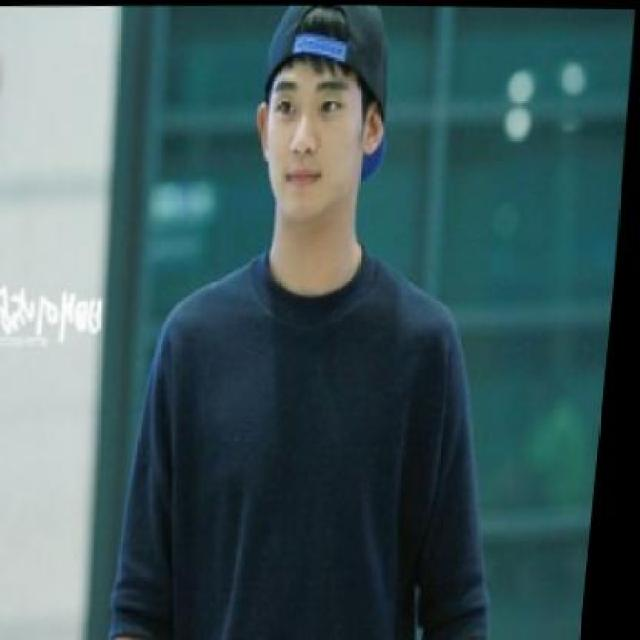hat: (254, 3, 397, 182)
